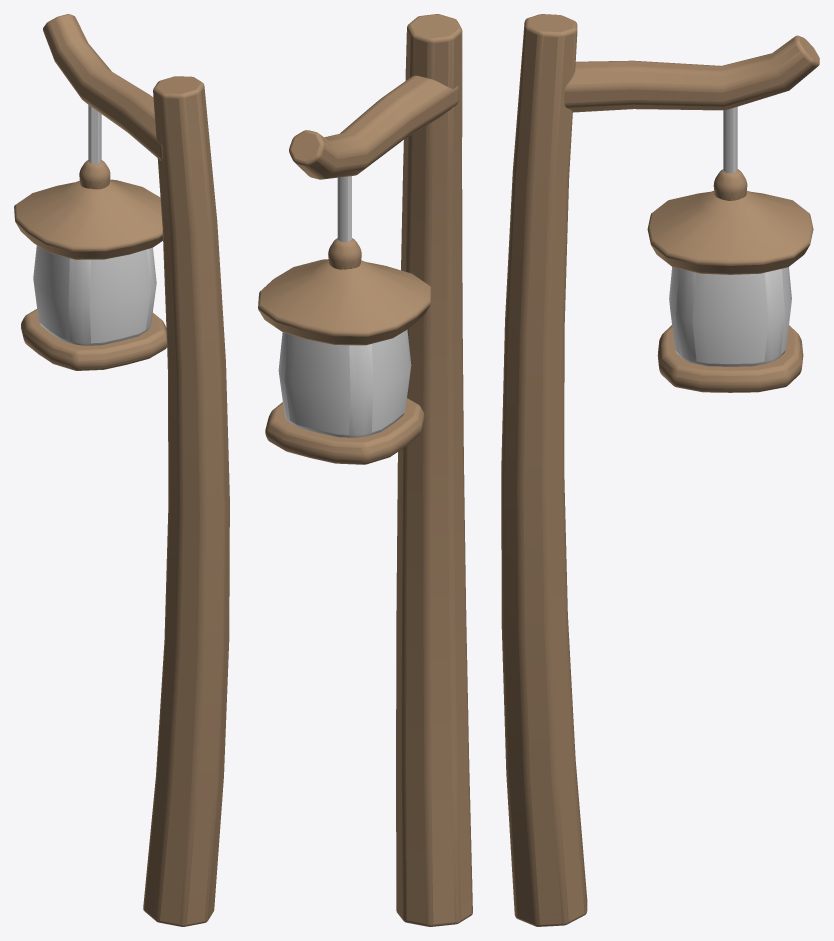
Rendered from prop_lantern_post_3.glb.
3 views of the same model, side by side, from view 1: azimuth 30°, elevation 25°; view 2: azimuth 150°, elevation 25°; view 3: azimuth 270°, elevation 25° (orthographic). The views are drawn at different scales.
Visible parts, largest first — view 1: prop_lantern_post_3_timber, prop_lantern_post_3_pv_capiz_lantern, prop_lantern_post_3_pv_rope; view 2: prop_lantern_post_3_timber, prop_lantern_post_3_pv_capiz_lantern, prop_lantern_post_3_pv_rope; view 3: prop_lantern_post_3_timber, prop_lantern_post_3_pv_capiz_lantern, prop_lantern_post_3_pv_rope.
Boxes of the visible parts, bbox=[...] form: prop_lantern_post_3_timber: bbox=[14, 14, 229, 926]; prop_lantern_post_3_pv_capiz_lantern: bbox=[33, 245, 156, 345]; prop_lantern_post_3_pv_rope: bbox=[88, 105, 101, 163]; prop_lantern_post_3_timber: bbox=[258, 14, 472, 926]; prop_lantern_post_3_pv_capiz_lantern: bbox=[278, 329, 411, 437]; prop_lantern_post_3_pv_rope: bbox=[337, 176, 351, 242]; prop_lantern_post_3_timber: bbox=[501, 14, 819, 926]; prop_lantern_post_3_pv_capiz_lantern: bbox=[669, 267, 791, 366]; prop_lantern_post_3_pv_rope: bbox=[723, 107, 737, 173].
Size of the model in its own units: 0.4629 by 2.74 by 0.8879.
